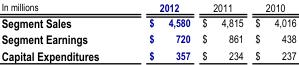table: (0, 0, 295, 62)
table column: (0, 0, 123, 62), (123, 0, 195, 62), (195, 0, 248, 62), (248, 0, 295, 62)
table column header: (0, 0, 295, 14)
table row: (0, 14, 295, 30), (0, 30, 295, 46), (0, 46, 295, 62), (0, 0, 295, 14)
